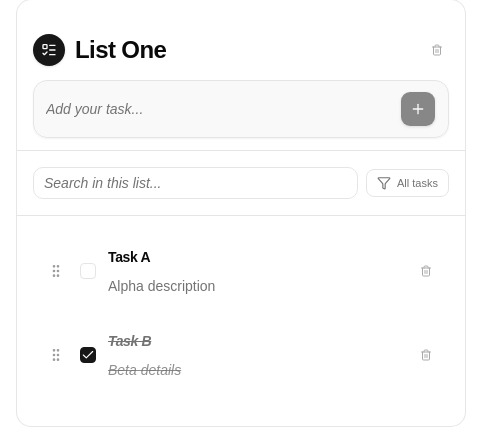
Test: TodoList › filters by search query (name/description) and clears back
Type "alpha" into the field with placeholder "Search in this list..." at (196, 183), box [33,167,358,199]
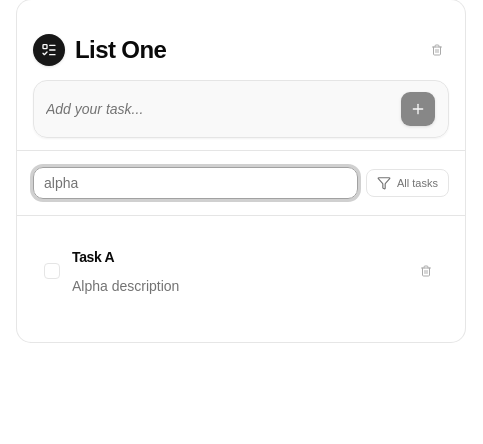
Expected: the field showing "Task A" is shown, [72,243,402,271]
Expected: the field showing "Task B" is not shown
Clear the field with placeholder "Search in this list..." at (196, 183), box [33,167,358,199]
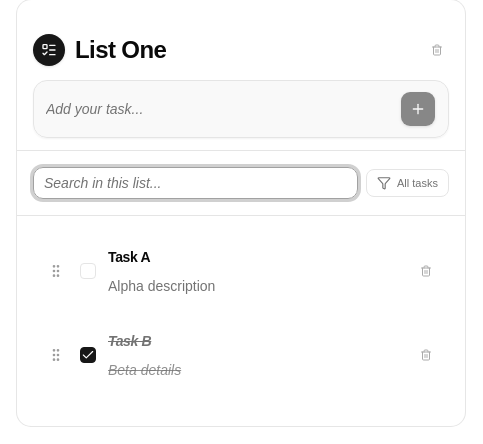
Expected: the 1st field showing "Task A" is shown, [108,243,402,271]
Expected: the 2nd field showing "Task B" is shown, [108,327,402,355]
